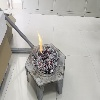fire: (37, 31, 43, 53)
